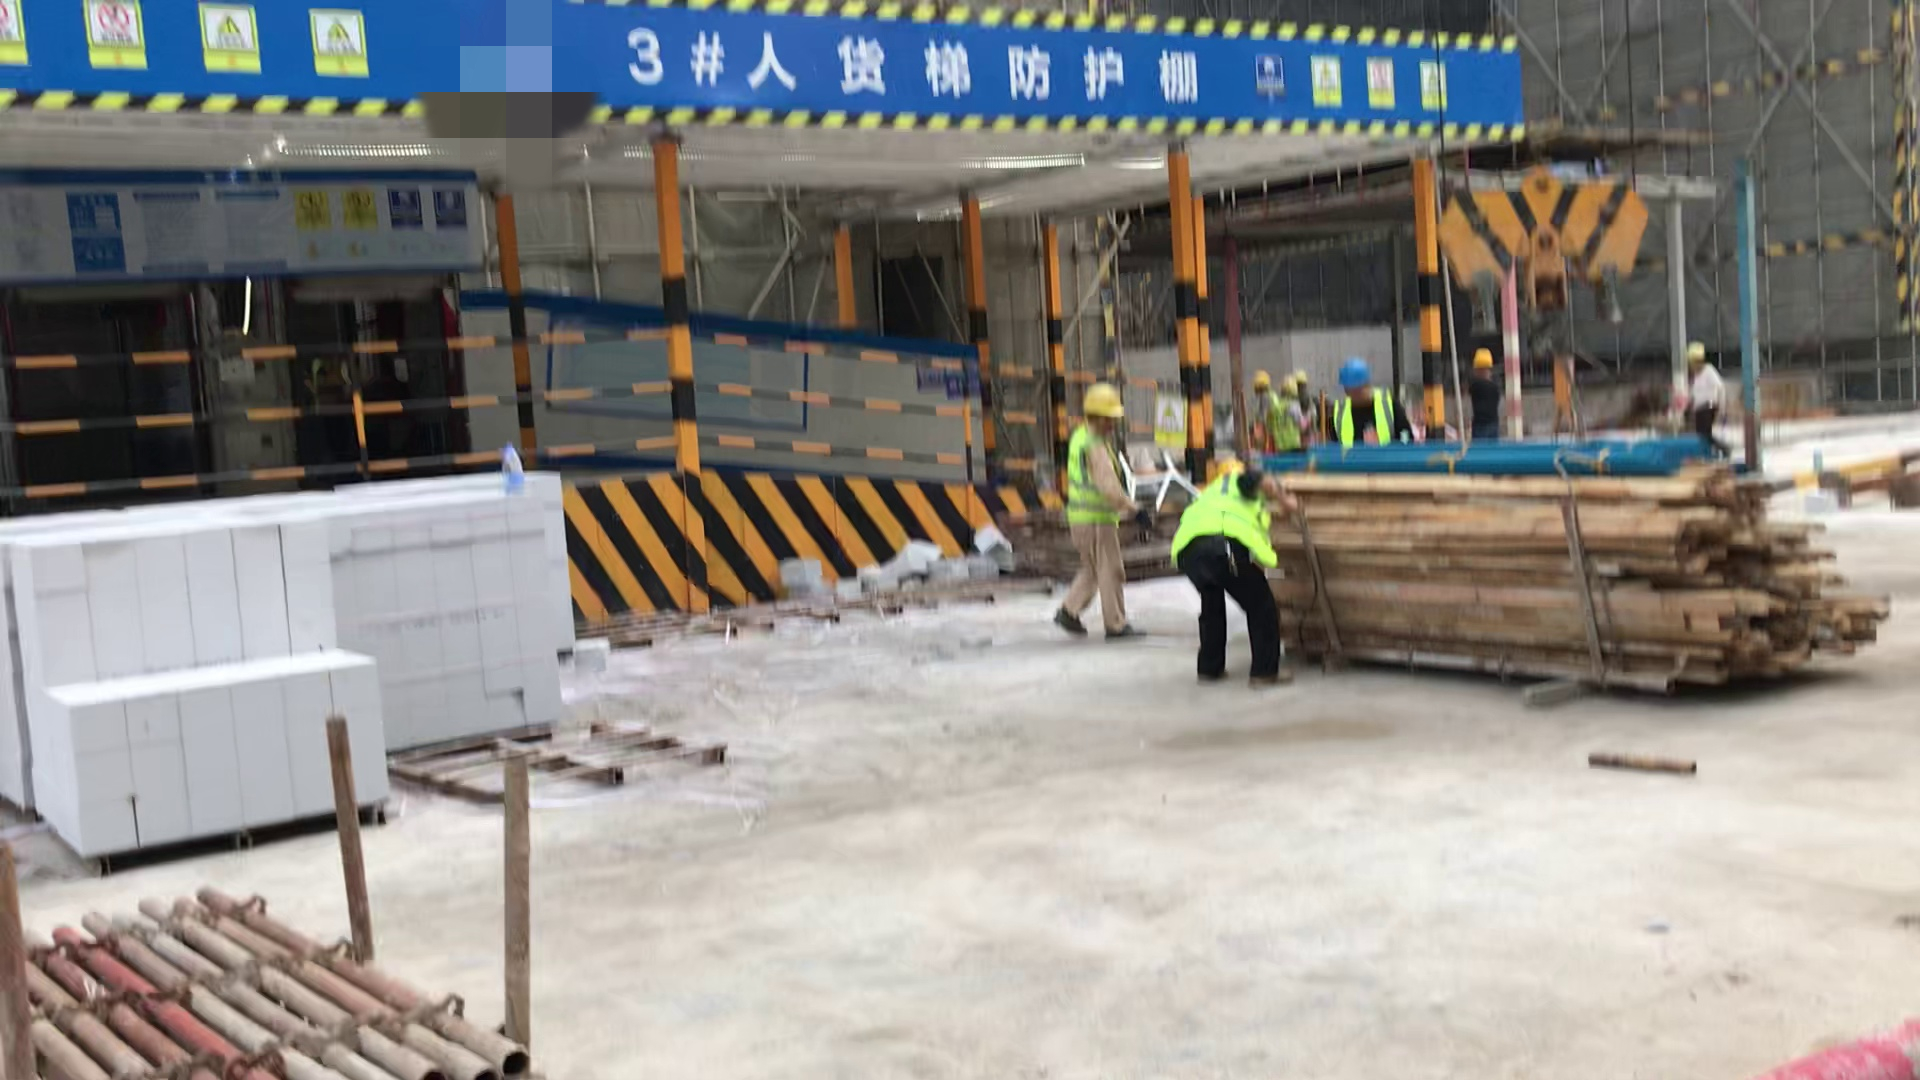brick: (9, 520, 383, 849), (246, 489, 567, 746)
ebox: (1550, 354, 1577, 416)
helmet: (1082, 384, 1126, 418), (1338, 360, 1370, 385), (1678, 338, 1709, 360), (1252, 370, 1270, 388), (1474, 351, 1493, 367)
hook: (1440, 170, 1646, 361)
person: (1181, 457, 1283, 692), (1059, 387, 1133, 643), (1328, 362, 1408, 447), (1686, 343, 1728, 453), (1470, 350, 1502, 447), (1271, 380, 1309, 456), (1251, 370, 1278, 437)
scaffold: (20, 887, 521, 1080)
slogan: (1, 1, 382, 80), (283, 188, 474, 258), (1252, 53, 1456, 115), (1152, 393, 1190, 457)
vest: (1170, 483, 1277, 562), (1065, 429, 1128, 531), (1331, 387, 1398, 449), (1265, 403, 1305, 451)
wood: (1267, 473, 1851, 687)
